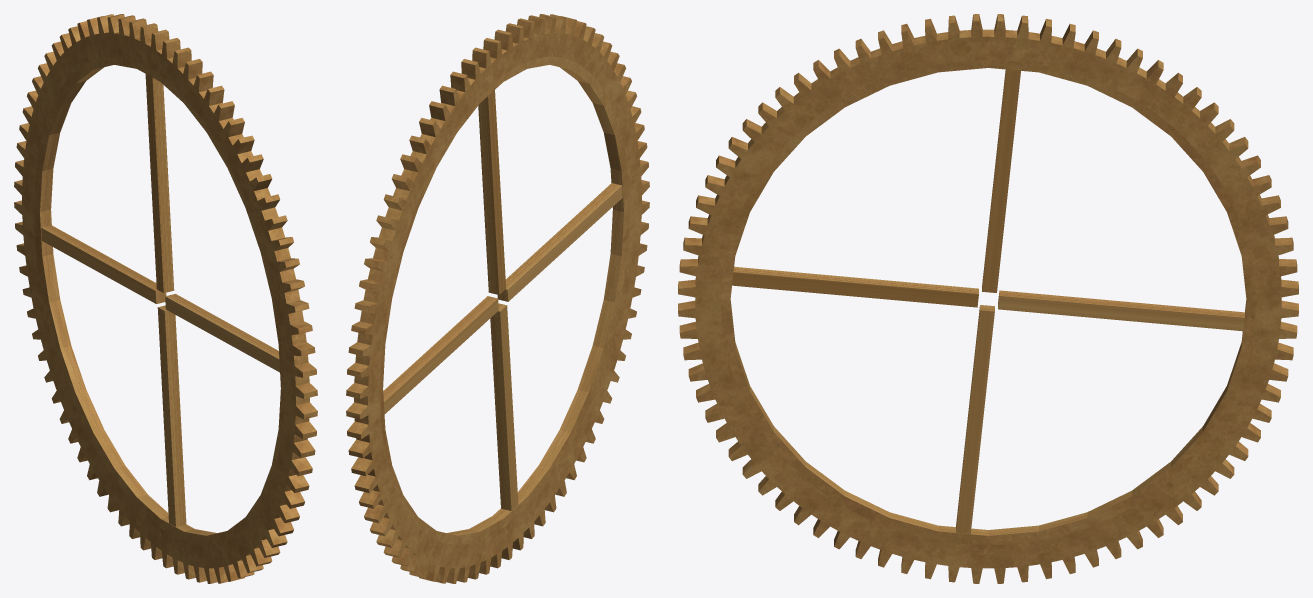
File: VenusRouePrincipale.fbx
3 views of the same model, side by side, from view 1: azimuth 30°, elevation 25°; view 2: azimuth 150°, elevation 25°; view 3: azimuth 270°, elevation 25° (orthographic). The views are drawn at different scales.
Visible parts, largest first — view 1: GearGrande, Contour.002; view 2: GearGrande, Contour.002; view 3: GearGrande, Contour.002.
Boxes of the visible parts, box(x1,y1,x2,y2) form: GearGrande: box(14, 14, 317, 583); Contour.002: box(34, 56, 283, 544); GearGrande: box(346, 14, 649, 583); Contour.002: box(380, 56, 629, 544); GearGrande: box(678, 14, 1298, 583); Contour.002: box(721, 60, 1255, 544).
Bounding box in the file's own units: 10 × 360 × 360.
2 materials, 2 textured.
